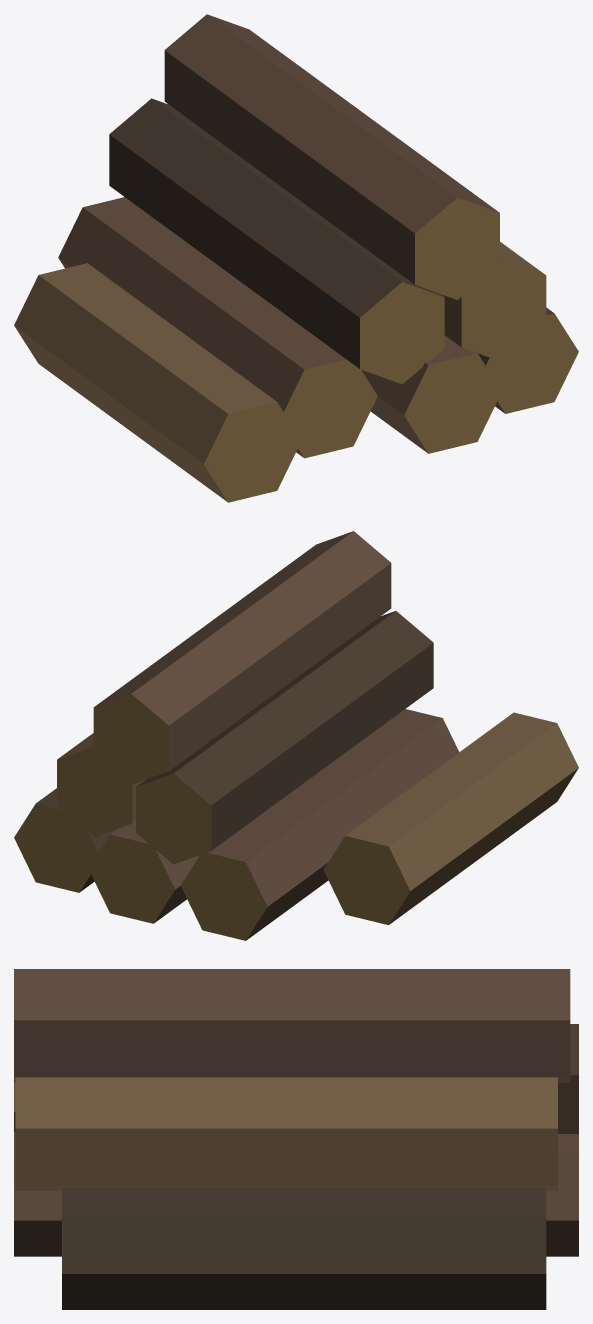
The model's file is Lumber_2.fbx.
The picture shows the model from 3 angles, top to bottom: view 1: azimuth 30°, elevation 25°; view 2: azimuth 150°, elevation 25°; view 3: azimuth 270°, elevation 25°; orthographic projection. The views are drawn at different scales.
Parts seen in each view (by area): view 1: pCylinder281; view 2: pCylinder281; view 3: pCylinder281.
Part boxes in pixels (left/top/right/bottom): pCylinder281: left=14, top=14, right=578, bottom=502; pCylinder281: left=14, top=531, right=578, bottom=940; pCylinder281: left=14, top=969, right=578, bottom=1309.
Bounding box in the file's own units: 81 × 48.63 × 90.
